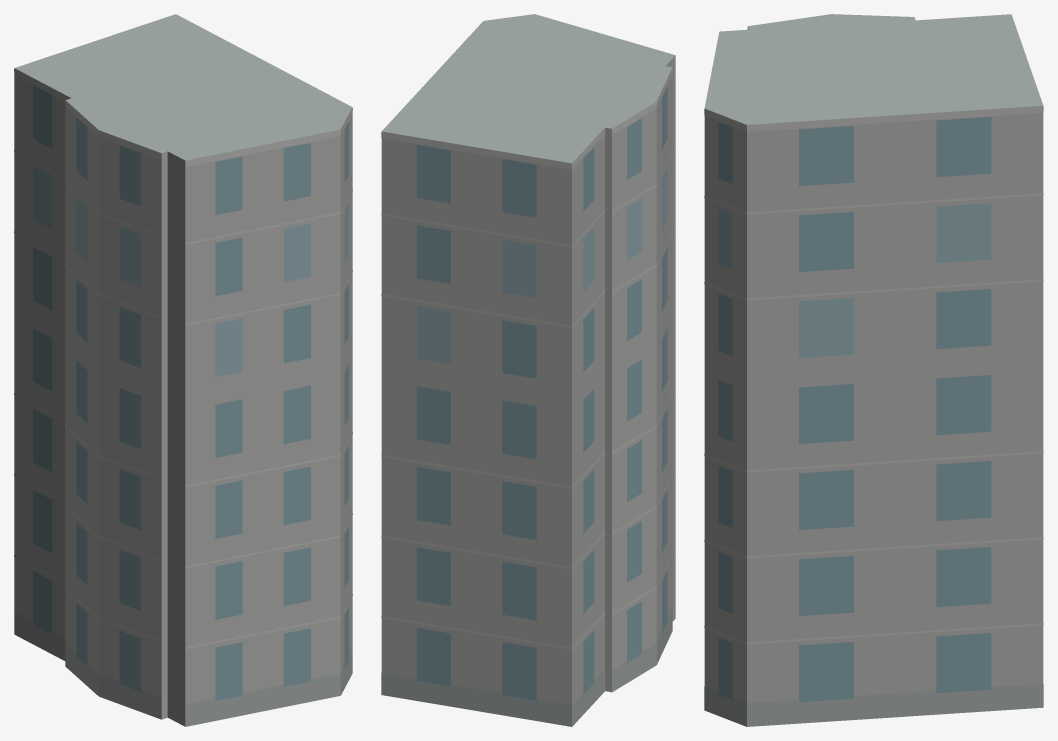
File: survey-upis-32700584.glb
3 renders of one model, left to right at view 1: azimuth 30°, elevation 25°; view 2: azimuth 150°, elevation 25°; view 3: azimuth 270°, elevation 25°, orthographic. The views are drawn at different scales.
Parts seen in each view (by area): view 1: survey-upis-32700584.tmp; view 2: survey-upis-32700584.tmp; view 3: survey-upis-32700584.tmp.
Part boxes in pixels (x1=…): survey-upis-32700584.tmp: x1=14, y1=14, x2=352, y2=726; survey-upis-32700584.tmp: x1=381, y1=14, x2=675, y2=726; survey-upis-32700584.tmp: x1=704, y1=14, x2=1043, y2=726.
Bounding box in the file's own units: 8.37 × 21.1 × 10.8.
